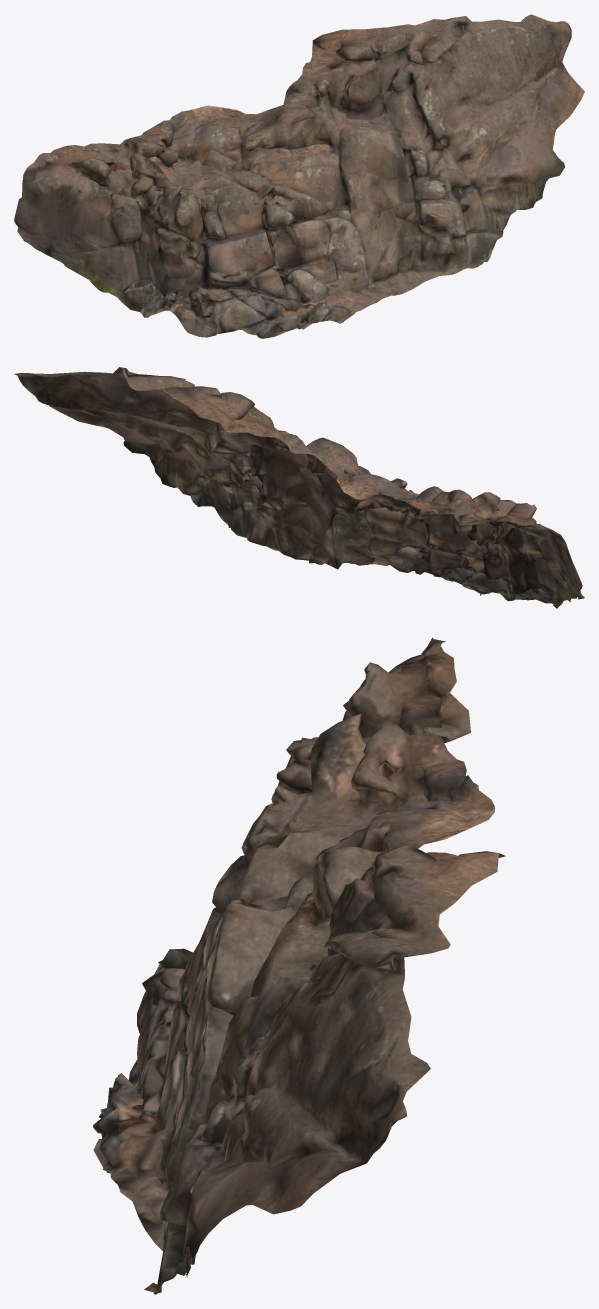
The model's file is namaqualand_cliff_02.glb.
The picture shows the model from 3 angles, top to bottom: view 1: azimuth 30°, elevation 25°; view 2: azimuth 150°, elevation 25°; view 3: azimuth 270°, elevation 25°; orthographic projection. The views are drawn at different scales.
Visible parts, largest first — view 1: drone_rock_02_LOD0; view 2: drone_rock_02_LOD0; view 3: drone_rock_02_LOD0.
Part boxes in pixels (x1,y1,x2,y2): drone_rock_02_LOD0: [14, 14, 584, 338]; drone_rock_02_LOD0: [14, 367, 584, 608]; drone_rock_02_LOD0: [93, 637, 505, 1294].
Size of the model in its own units: 20.23 by 7.17 by 6.58.
1 material, 1 textured.
